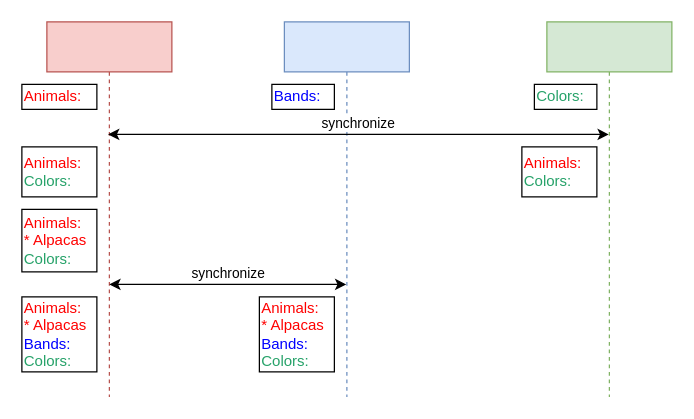
Some shapes in this 694 by 419 pixel diagram are drawn without their labels. Each missing label, with the box of its shape:
Alice: (46, 21, 172, 397)
Bob: (283, 21, 409, 397)
Carol: (546, 21, 672, 397)
